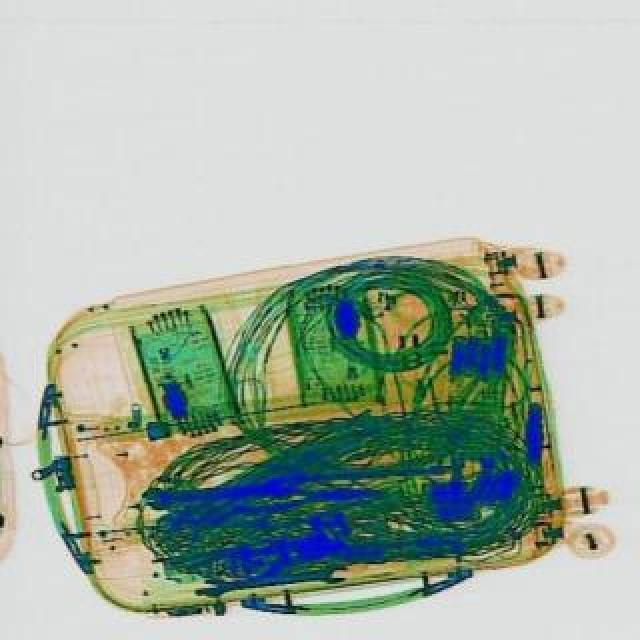scissors: (192, 560, 346, 600), (140, 474, 294, 508)
